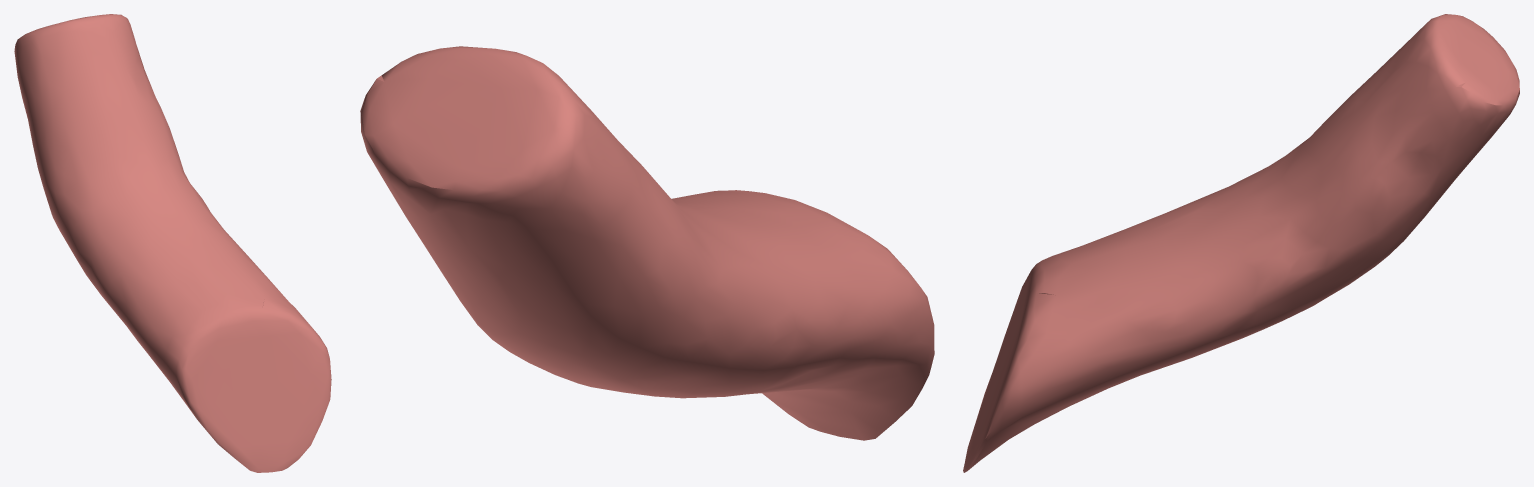
File: fma42588_mm1971.glb
The picture shows the model from 3 angles, left to right: view 1: azimuth 30°, elevation 25°; view 2: azimuth 150°, elevation 25°; view 3: azimuth 270°, elevation 25°; orthographic projection. The views are drawn at different scales.
Parts seen in each view (by area): view 1: FMA42588_MM1971; view 2: FMA42588_MM1971; view 3: FMA42588_MM1971.
Boxes of the visible parts, <box> form: FMA42588_MM1971: <box>14,14,331,472</box>; FMA42588_MM1971: <box>360,46,934,440</box>; FMA42588_MM1971: <box>963,14,1519,472</box>.
Size of the model in its own units: 0.0042 by 0.00846 by 0.00994.
